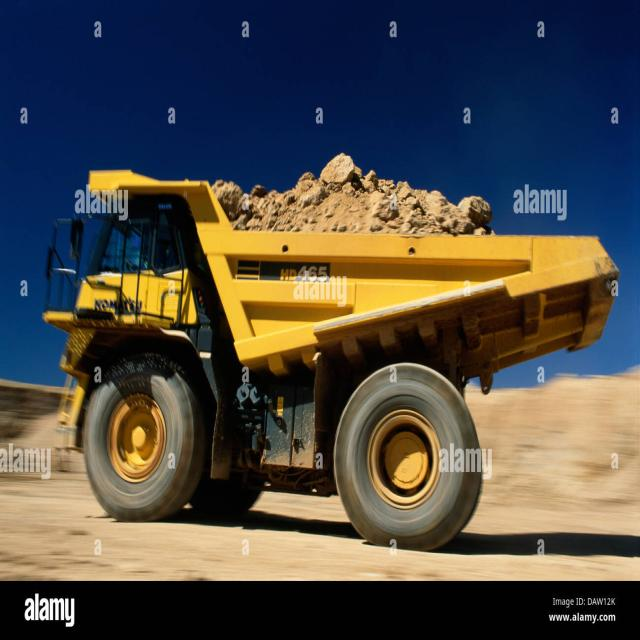dump_truck: (48, 144, 632, 591)
